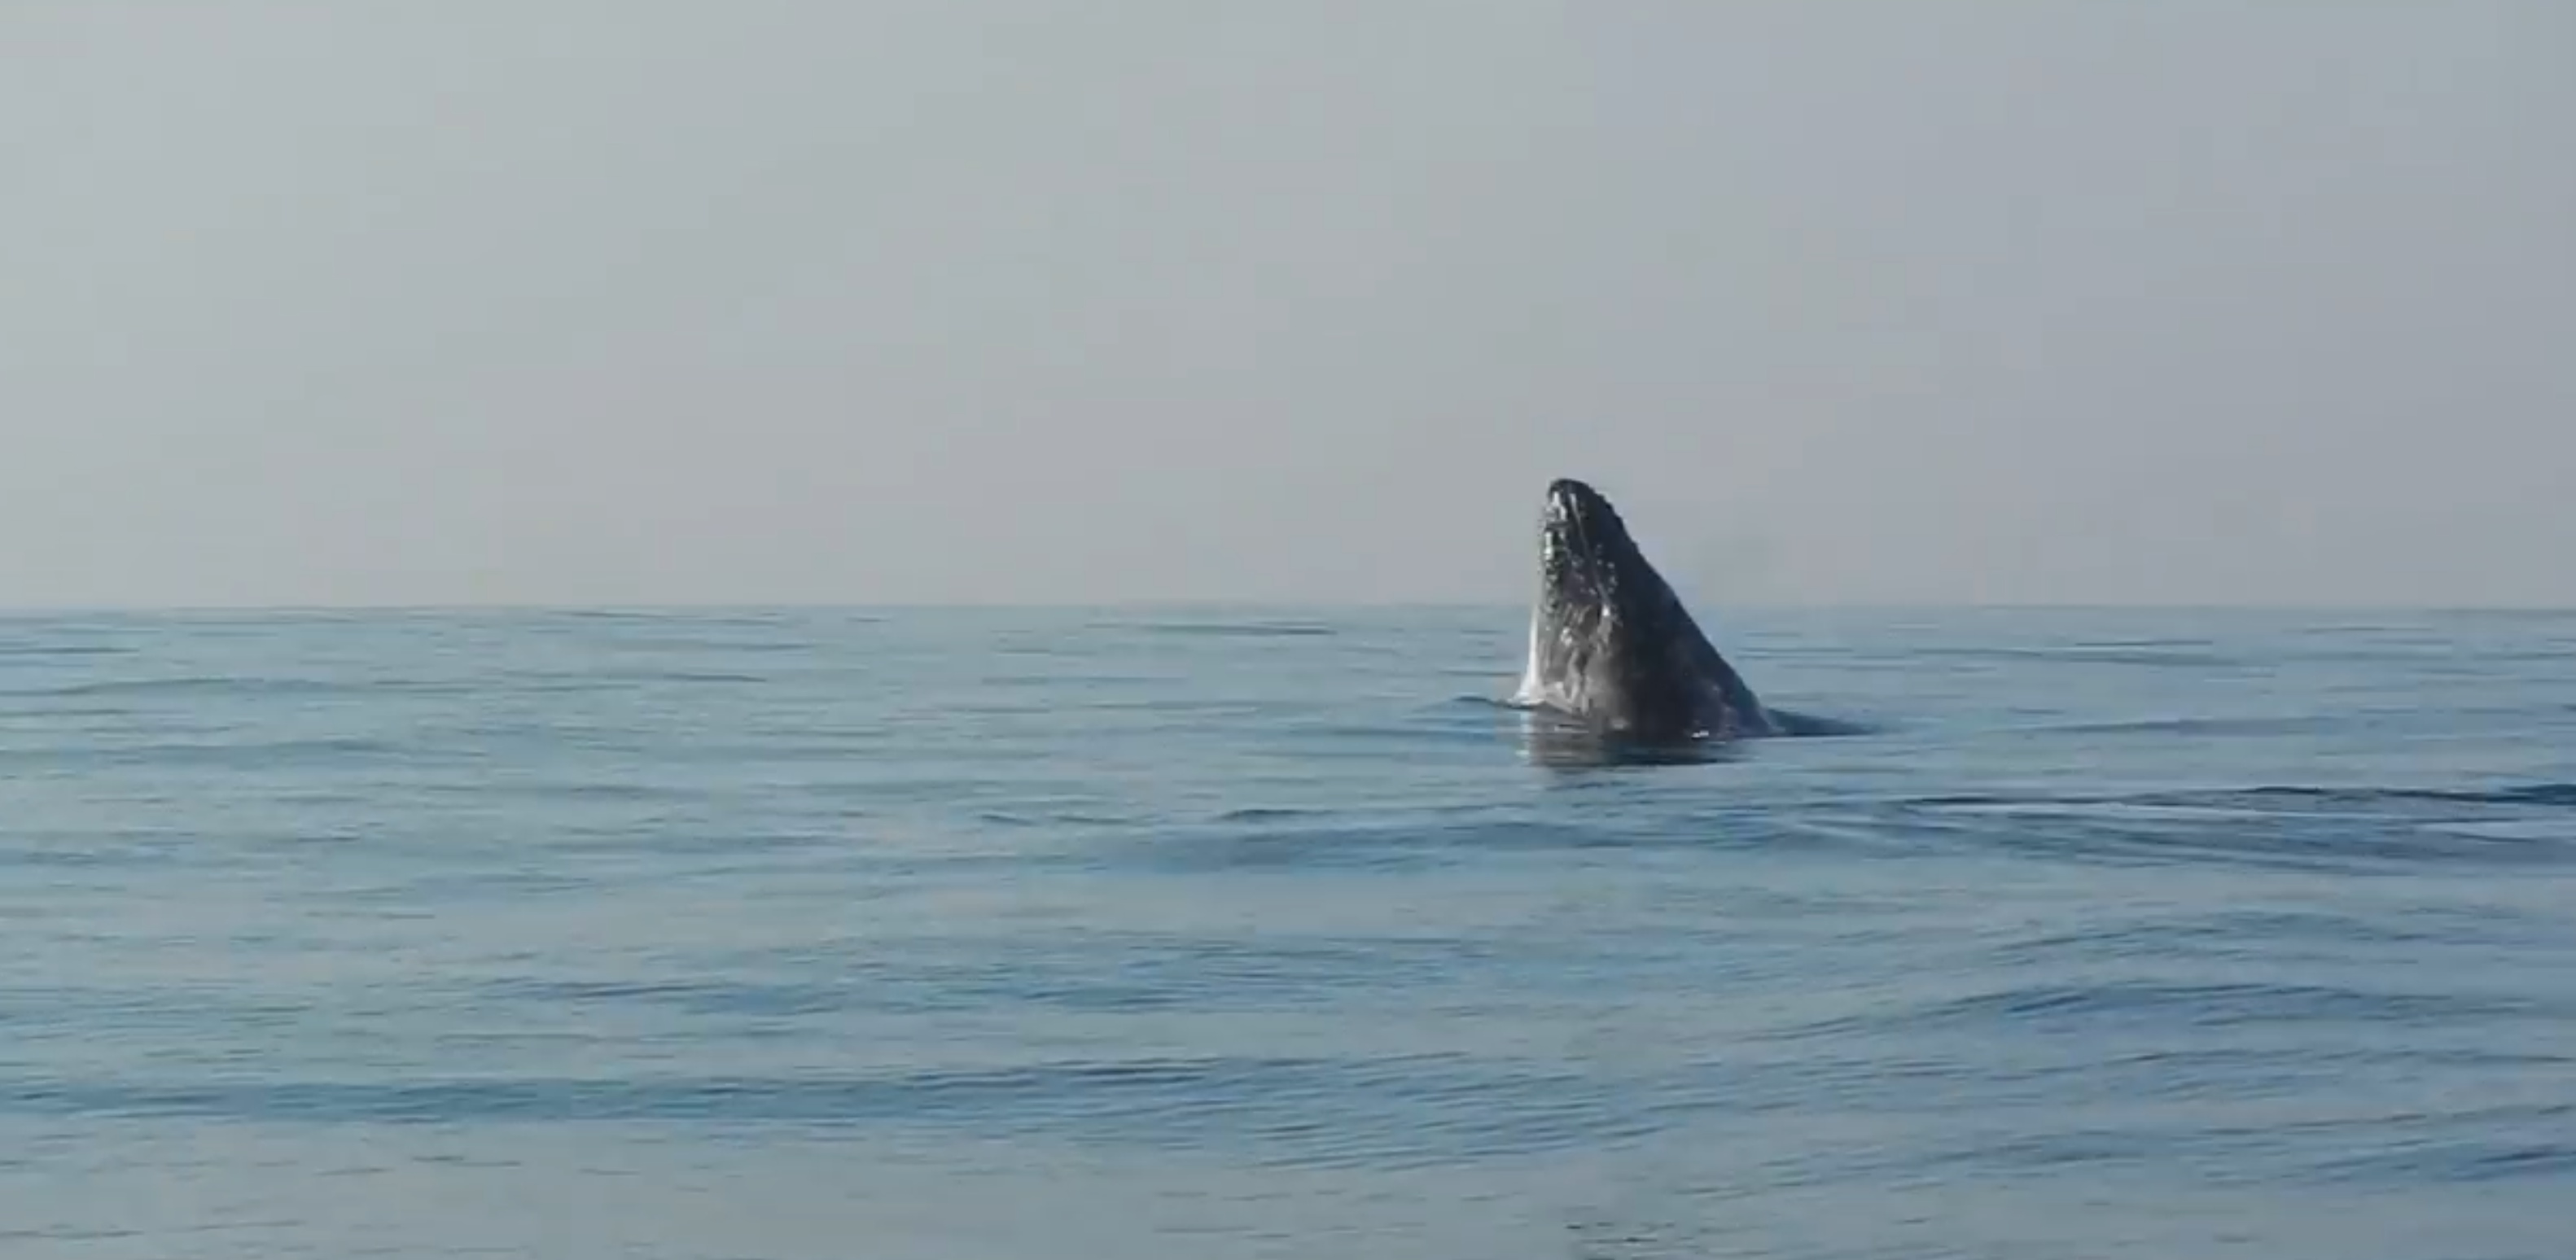humpback: (1521, 473, 1764, 744)
